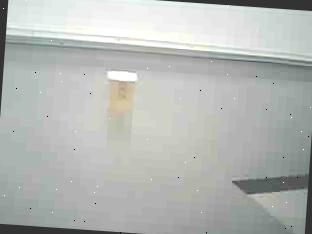Bottle B: (98, 64, 145, 123)
